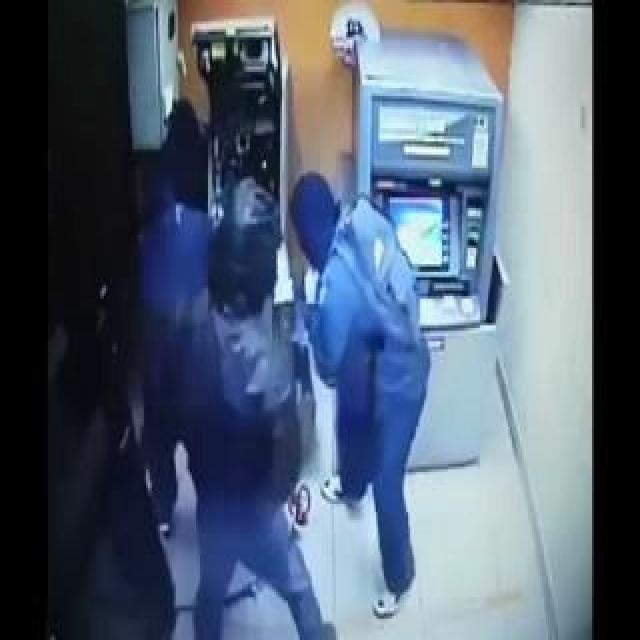thief: (128, 174, 368, 315)
